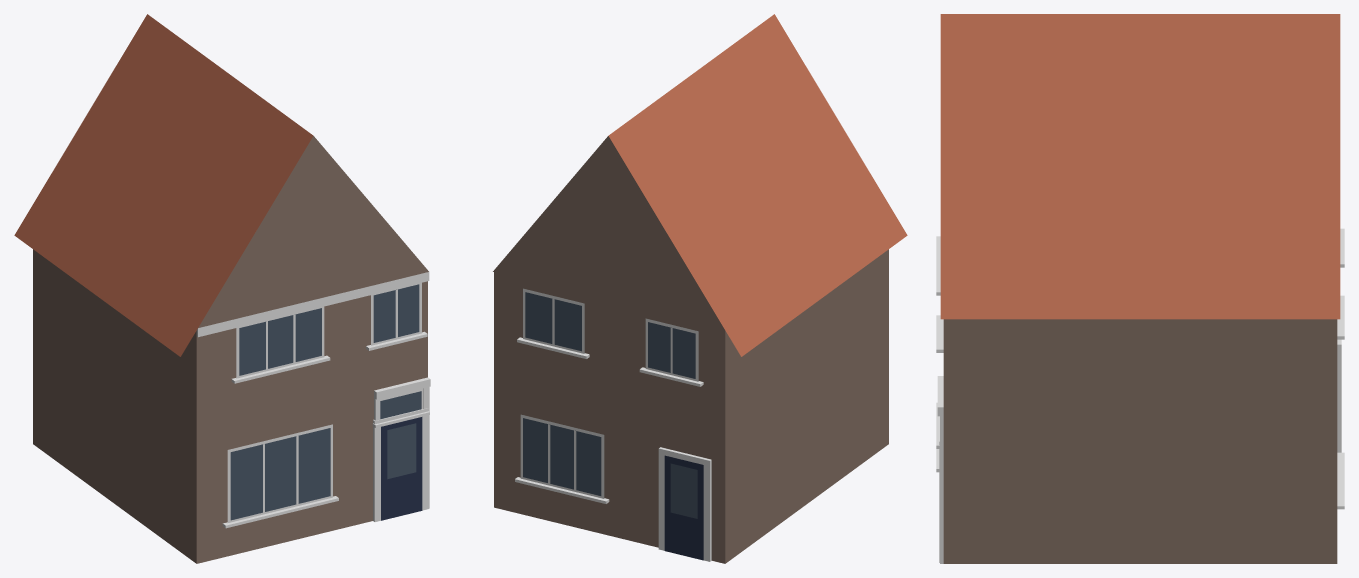
File: nn-row__wide-orange__2__gable__short__solid__mirror.glb
The picture shows the model from 3 angles, left to right: view 1: azimuth 30°, elevation 25°; view 2: azimuth 150°, elevation 25°; view 3: azimuth 270°, elevation 25°; orthographic projection. The views are drawn at different scales.
Visible parts, largest first — view 1: nn-row__wide-orange__2__gable__short__solid__mirror; view 2: nn-row__wide-orange__2__gable__short__solid__mirror; view 3: nn-row__wide-orange__2__gable__short__solid__mirror.
Boxes of the visible parts, <box> form: nn-row__wide-orange__2__gable__short__solid__mirror: <box>14,14,430,563</box>; nn-row__wide-orange__2__gable__short__solid__mirror: <box>493,14,907,563</box>; nn-row__wide-orange__2__gable__short__solid__mirror: <box>936,14,1344,563</box>.
Bounding box in the file's own units: 6.12 × 8.81 × 6.76.
